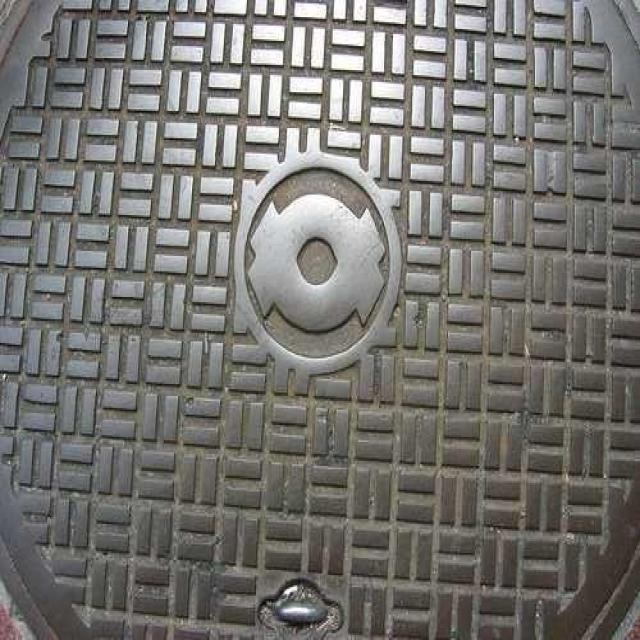manhole: (0, 2, 640, 640)
